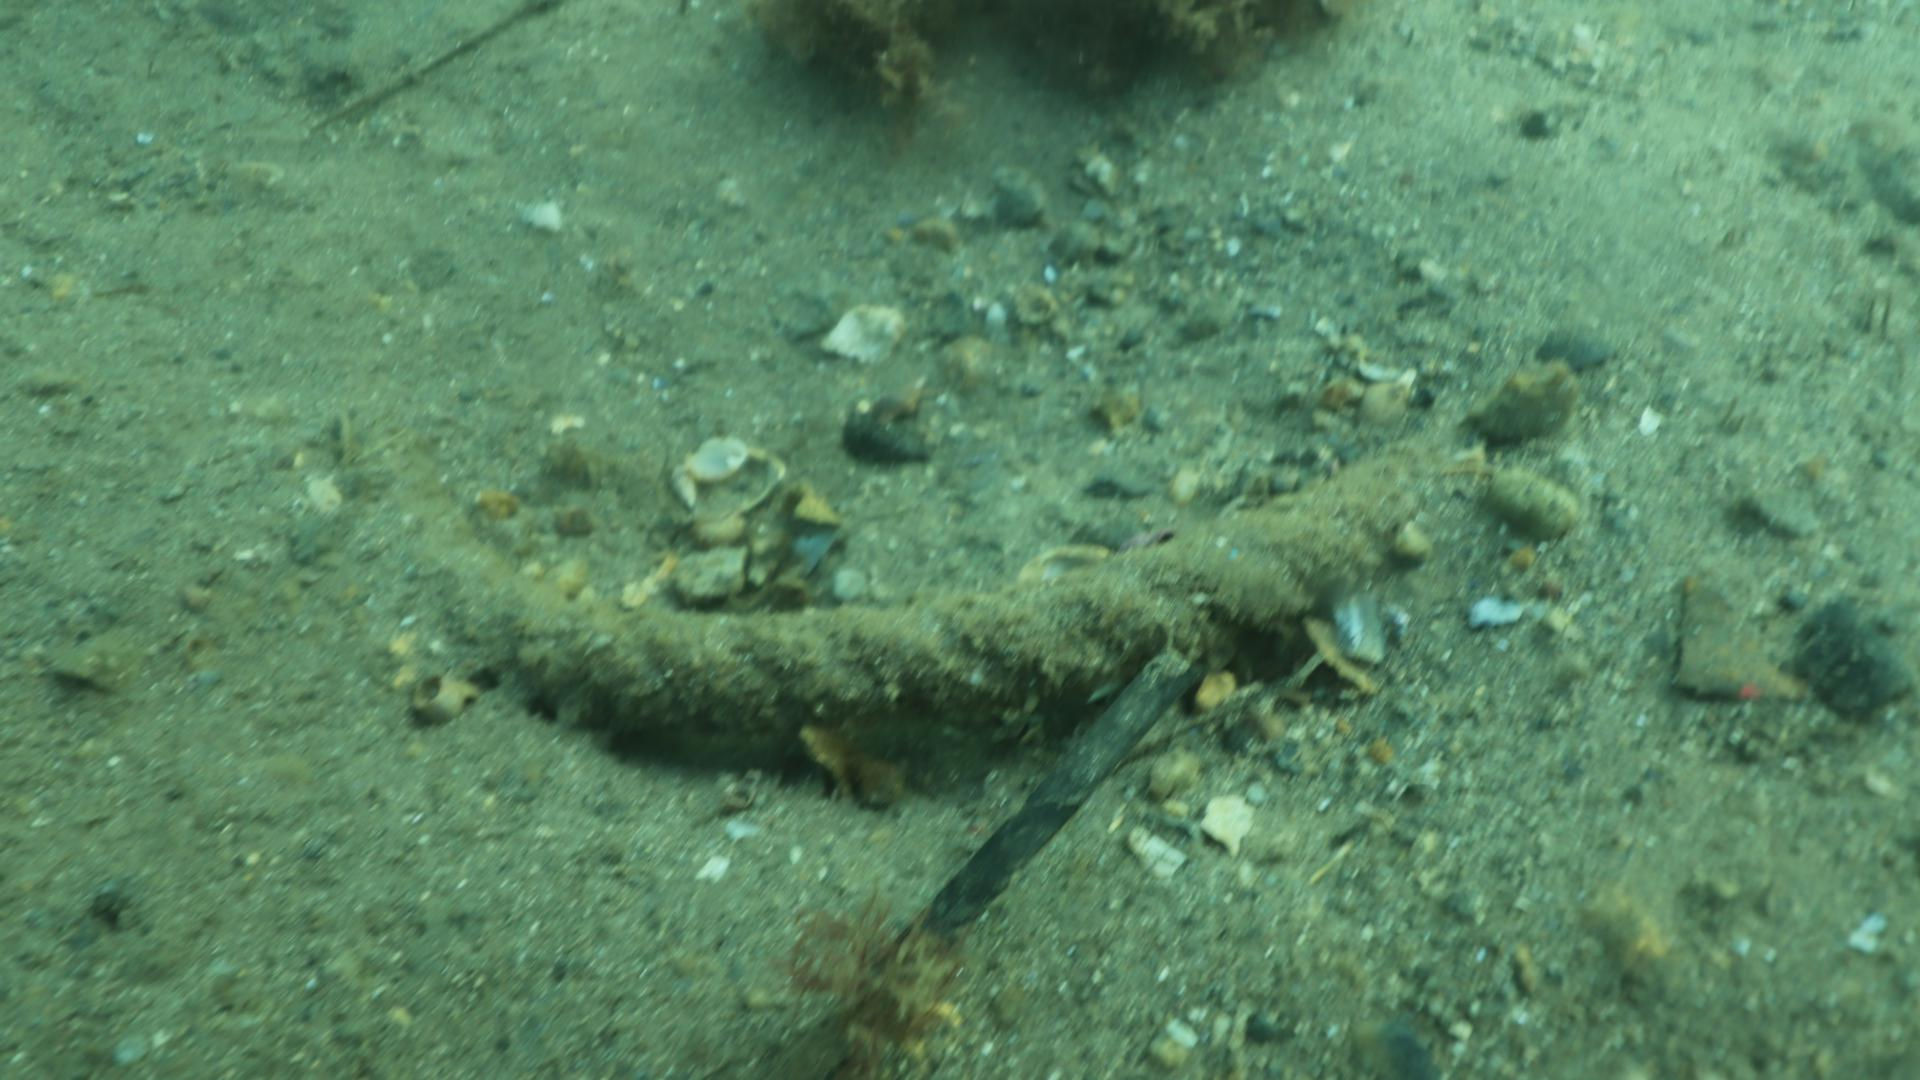rope: (512, 440, 1439, 744)
